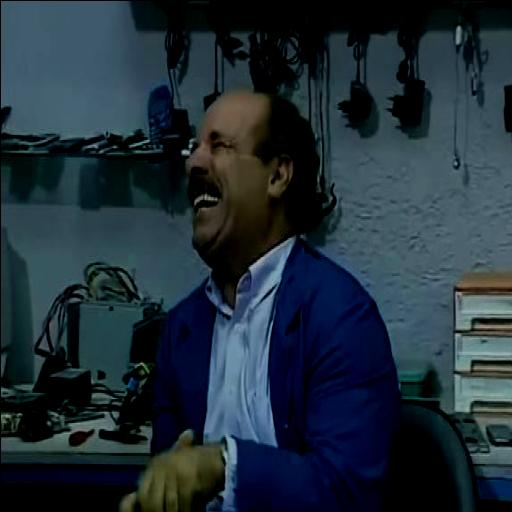beji_matrix: (184, 88, 316, 265)
